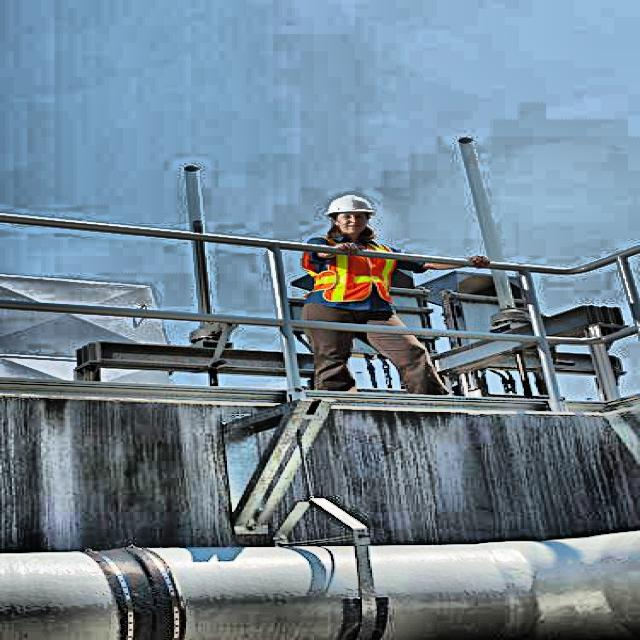helmet: (319, 181, 381, 250)
